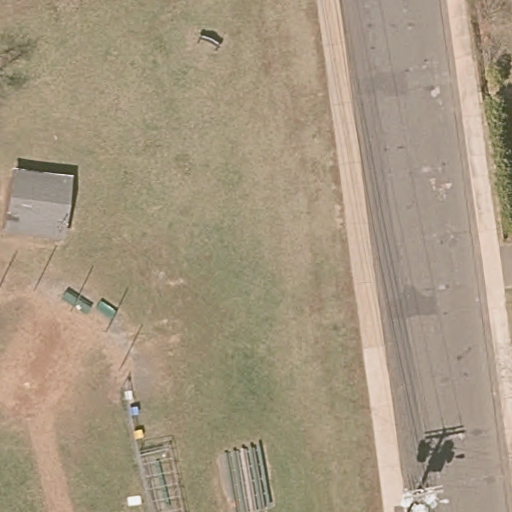DT: (399, 481, 450, 512)
